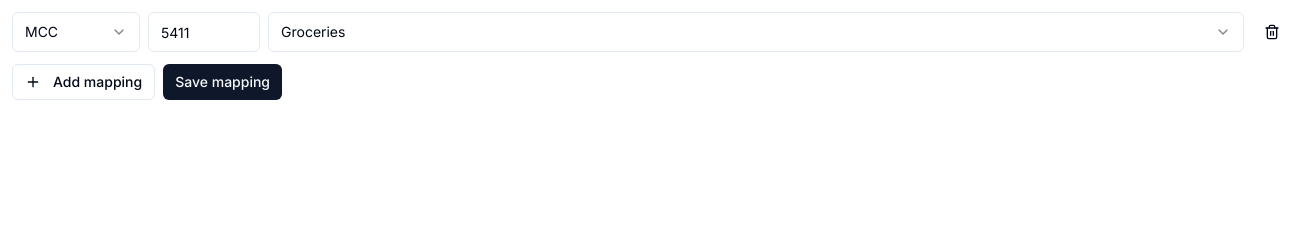
Test case: BankProviderCategoryMapEditor (expense) › duplicate tagged keys block save with a message
Click the button "Add mapping". click: (84, 82)
box: [12,64,155,100]
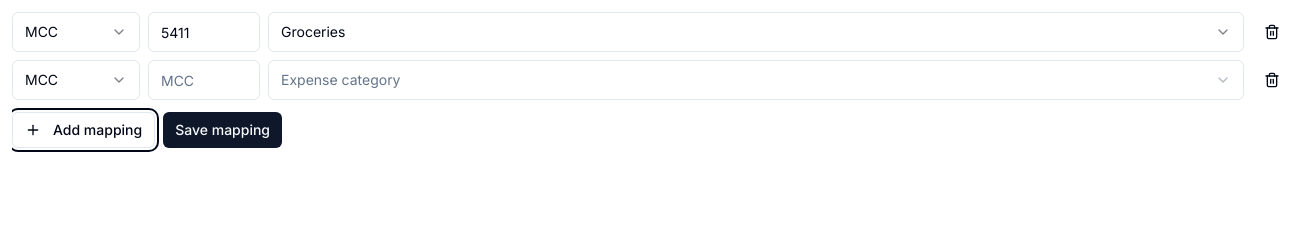
Type "5411" into the field named "mcc code, row 2". click: (204, 80)
box: [148,60,260,100]
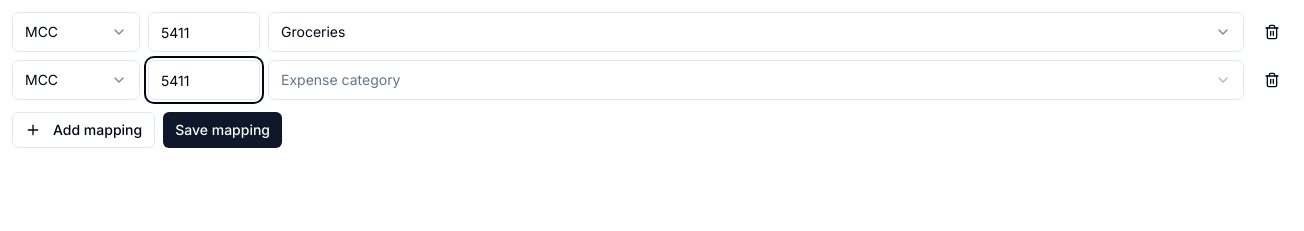
Click the dropdown named "category, row 2". click: (341, 80)
box: [268,60,1244,100]
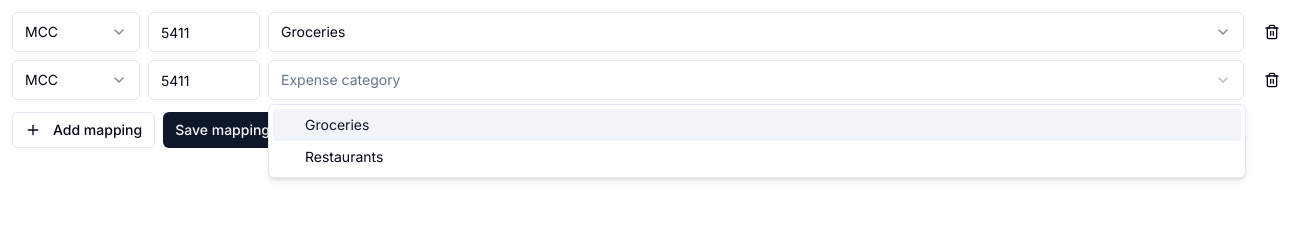
Click the option "Restaurants". click: (344, 156)
box: [305,148,383,165]
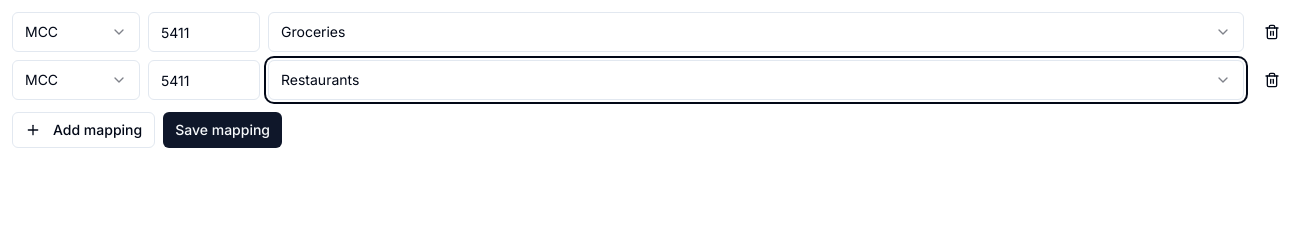
Click the button "Save mapping". click: (223, 130)
box: [163,112,282,148]
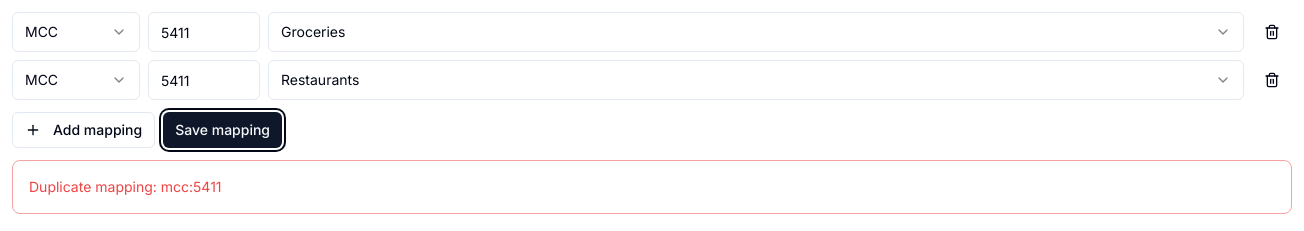
expect the message shows "Duplicate": met, box [29,178,222,195]
